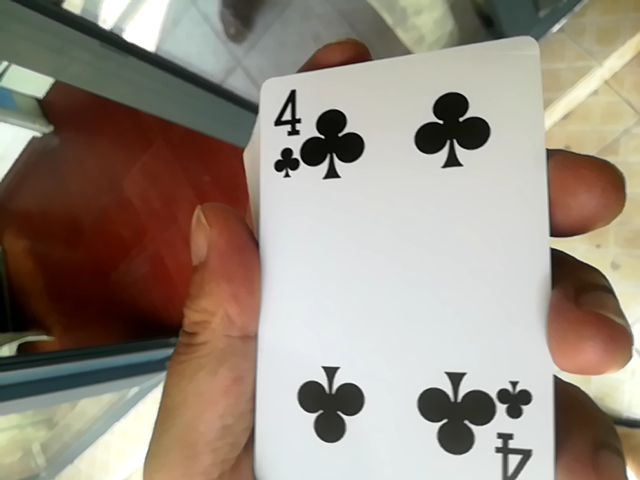mh 4: (226, 40, 572, 470)
